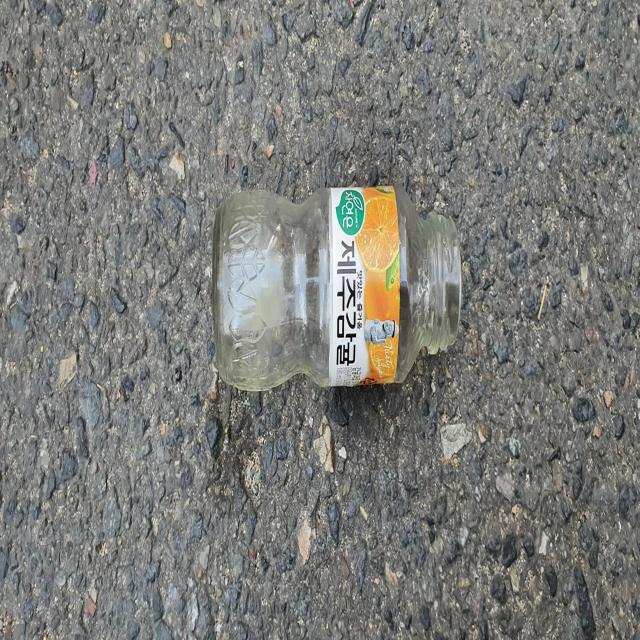glass: (212, 184, 462, 390)
